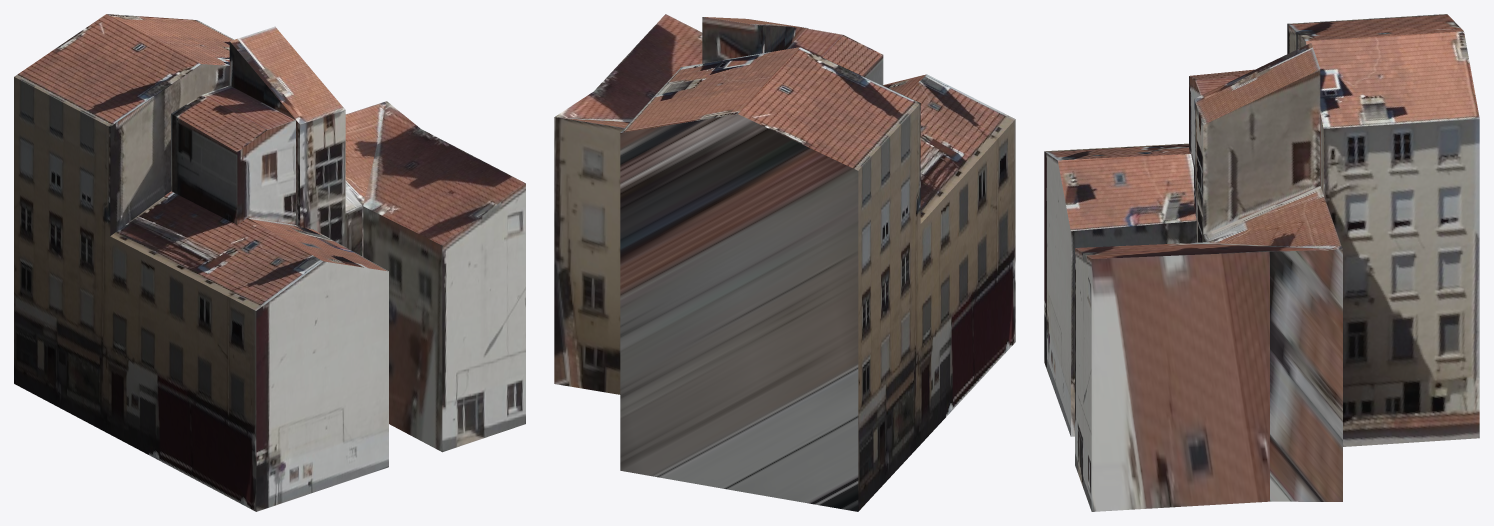
3 views of the same model, side by side, from view 1: azimuth 30°, elevation 25°; view 2: azimuth 150°, elevation 25°; view 3: azimuth 270°, elevation 25° (orthographic). The views are drawn at different scales.
Visible parts, largest first — view 1: Z_UP; view 2: Z_UP; view 3: Z_UP.
Boxes of the visible parts, x1,y1,x2,y2 form: Z_UP: [14, 14, 525, 511]; Z_UP: [554, 14, 1015, 511]; Z_UP: [1044, 14, 1479, 511].
Bounding box in the file's own units: 23.62 × 23.27 × 24.77.
2 materials, 1 textured.
